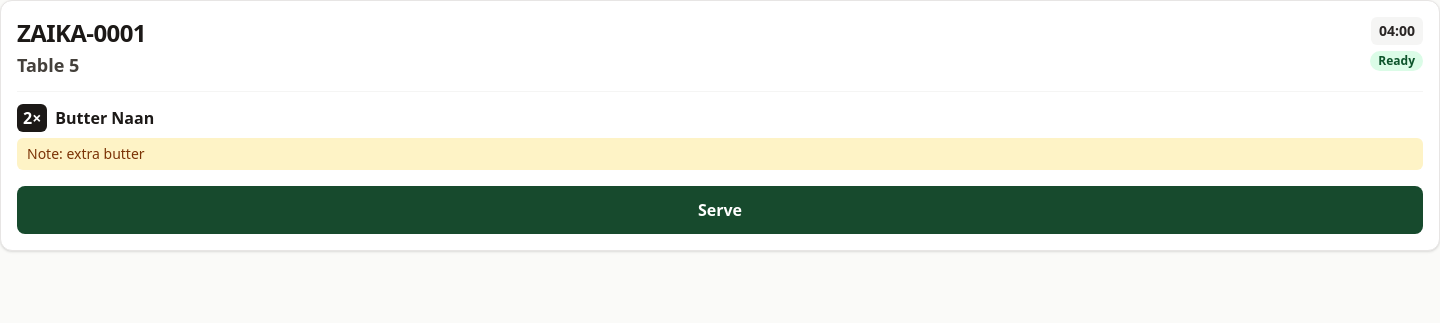
Test: StaffOrderCard + ServeConfirm › asks for confirmation, then serves on confirm
Later steps or results of the test are not shown.
Click the button "Serve". click: (720, 210)
box: left=17, top=186, right=1423, bottom=234
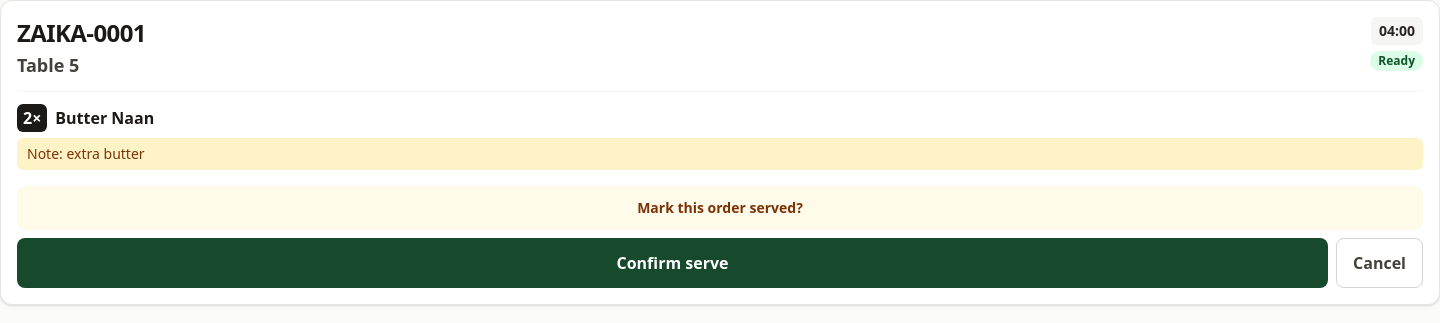
Expected: the text "Mark this order served?" is shown, left=17, top=186, right=1423, bottom=230
